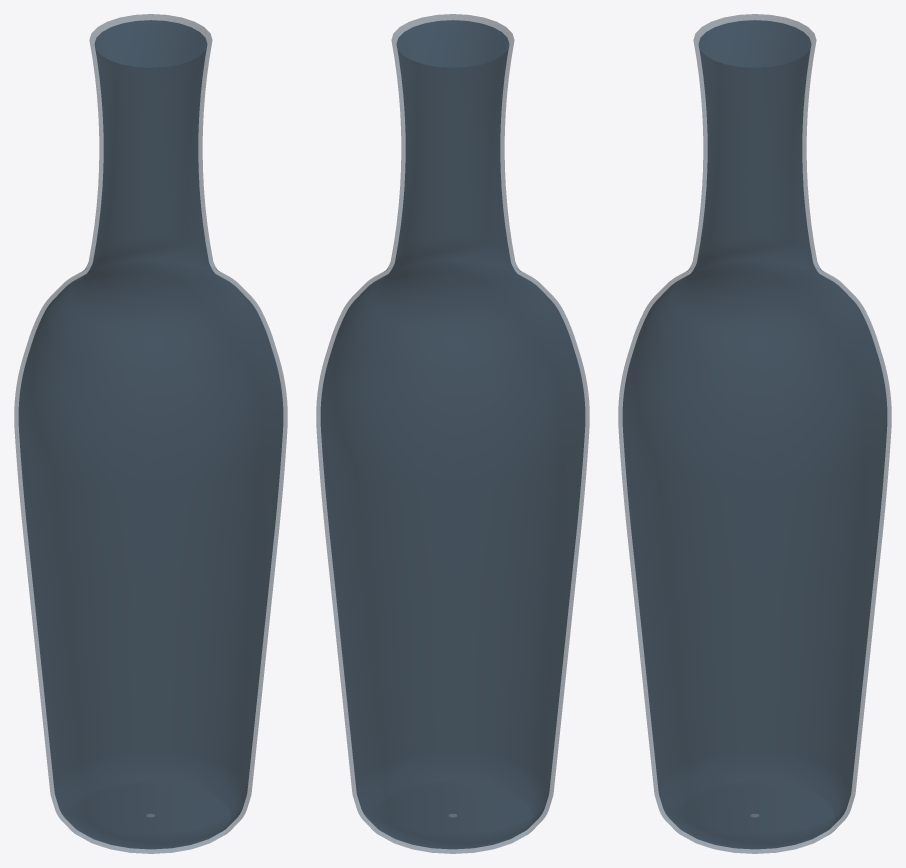
File: Carafe1_Stockholm_Ikea.fbx
3 renders of one model, left to right at view 1: azimuth 30°, elevation 25°; view 2: azimuth 150°, elevation 25°; view 3: azimuth 270°, elevation 25°, orthographic.
Parts seen in each view (by area): view 1: Group1; view 2: Group1; view 3: Group1.
Part boxes in pixels (left/top/right/bottom): Group1: left=14, top=14, right=287, bottom=853; Group1: left=316, top=14, right=589, bottom=853; Group1: left=618, top=14, right=891, bottom=853.
Size of what is drawn, in the model's own units: 93.66 by 294 by 93.66.
